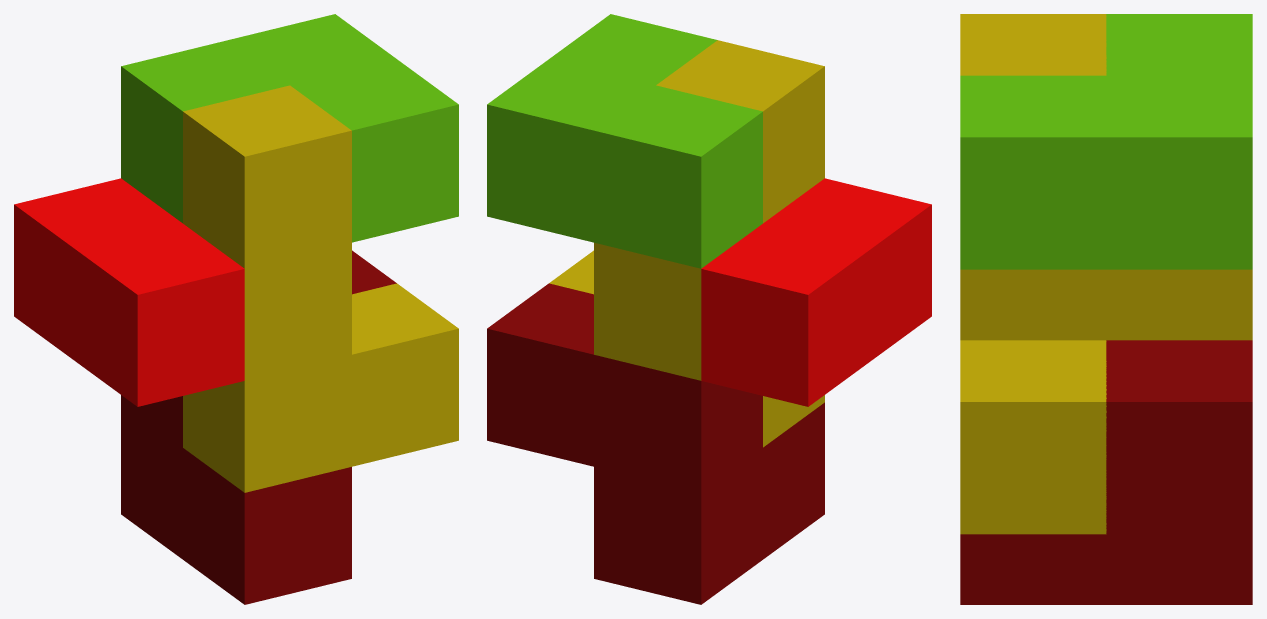
3 views of the same model, side by side, from view 1: azimuth 30°, elevation 25°; view 2: azimuth 150°, elevation 25°; view 3: azimuth 270°, elevation 25° (orthographic). The views are drawn at different scales.
Visible parts, largest first — view 1: mergedBlocks(Clone); view 2: mergedBlocks(Clone); view 3: mergedBlocks(Clone).
Boxes of the visible parts, x1=… form: mergedBlocks(Clone): x1=14, y1=14, x2=458, y2=604; mergedBlocks(Clone): x1=487, y1=14, x2=931, y2=604; mergedBlocks(Clone): x1=960, y1=14, x2=1252, y2=604.
Size of the model in its own units: 3 by 4 by 2.
Materials: 4 (4 with a texture image).
